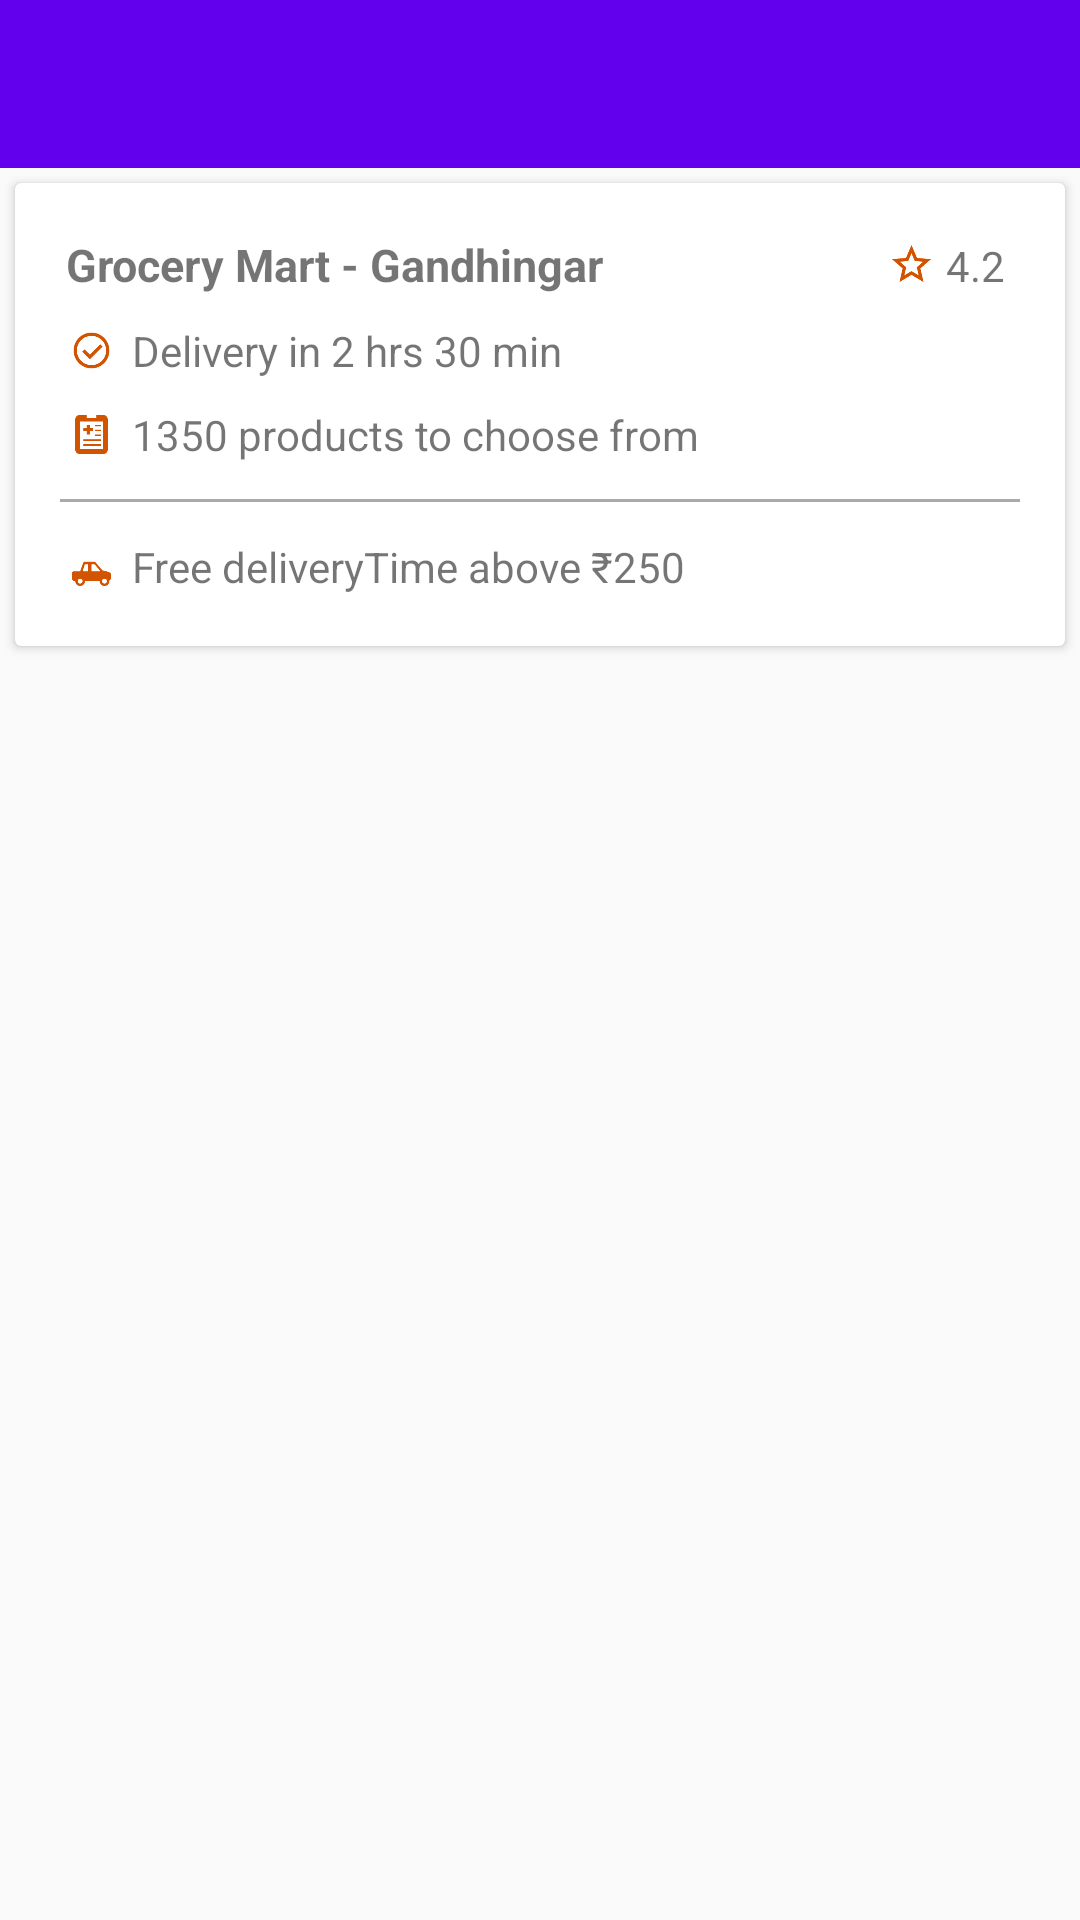

Icon bounding boxes for this 1080 x 1920 phone screenshot, format [left=x1, top=y1, right=x2, bottom=y2]:
pickup: [left=72, top=561, right=111, bottom=586]
star: [left=892, top=245, right=931, bottom=282]
